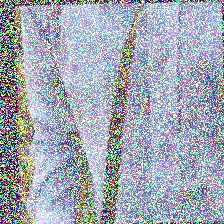Leaf_Blast: (107, 9, 143, 171)
